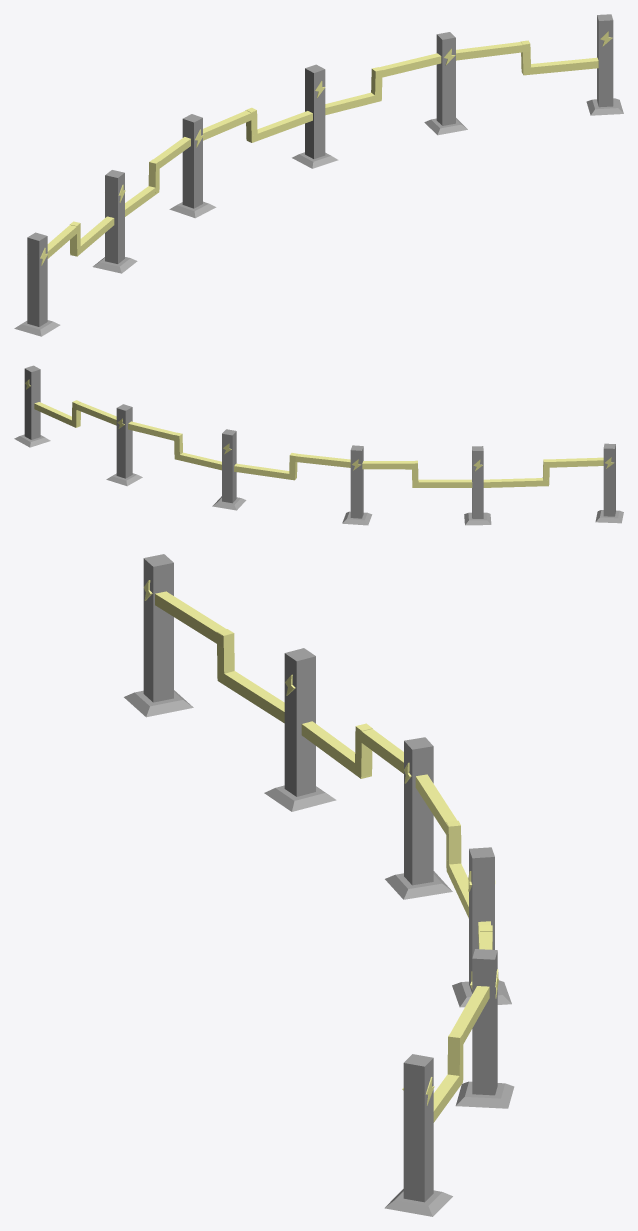
File: CharlesFence_Between.fbx
3 views of the same model, one above another, from view 1: azimuth 30°, elevation 25°; view 2: azimuth 150°, elevation 25°; view 3: azimuth 270°, elevation 25° (orthographic). The views are drawn at different scales.
Visible parts, largest first — view 1: CharlesFence_between; view 2: CharlesFence_between; view 3: CharlesFence_between.
Boxes of the visible parts, <box> form: CharlesFence_between: <box>14,14,623,336</box>; CharlesFence_between: <box>14,365,623,525</box>; CharlesFence_between: <box>124,554,514,1216</box>.
Size of the model in its own units: 2370 by 296 by 740.
